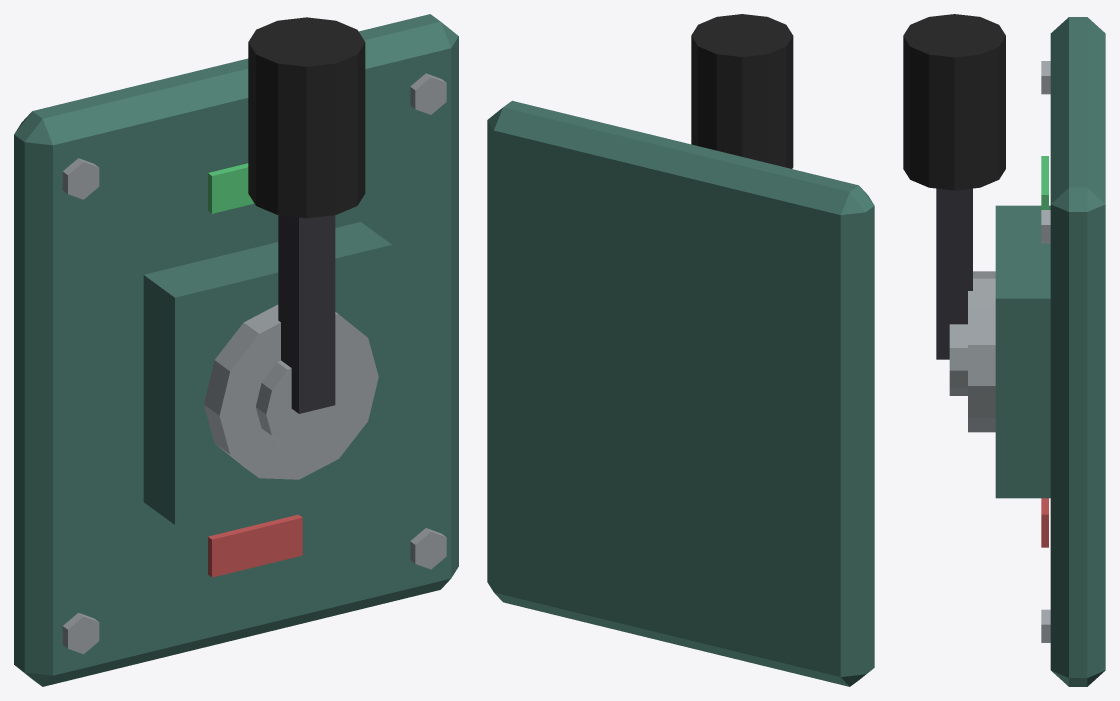
Rendered from lever.fbx.
3 views of the same model, side by side, from view 1: azimuth 30°, elevation 25°; view 2: azimuth 150°, elevation 25°; view 3: azimuth 270°, elevation 25° (orthographic). The views are drawn at different scales.
Visible parts, largest first — view 1: Lever_Switch_MountingPlate, Lever_Switch_PivotBase, Lever_Switch_Grip, Lever_Switch_PivotRing, Lever_Switch_Stem, Lever_Switch_PivotCore, Lever_Switch_Label_OFF, Lever_Switch_Label_ON, Lever_Switch_CornerBolt_1, Lever_Switch_CornerBolt_3, Lever_Switch_CornerBolt_2, Lever_Switch_CornerBolt_4; view 2: Lever_Switch_MountingPlate, Lever_Switch_Grip; view 3: Lever_Switch_MountingPlate, Lever_Switch_Grip, Lever_Switch_PivotBase, Lever_Switch_Stem, Lever_Switch_PivotRing, Lever_Switch_PivotCore, Lever_Switch_Label_ON, Lever_Switch_Label_OFF, Lever_Switch_CornerBolt_1, Lever_Switch_CornerBolt_2, Lever_Switch_CornerBolt_4.
Boxes of the visible parts, <box> form: Lever_Switch_MountingPlate: <box>14,14,458,686</box>; Lever_Switch_PivotBase: <box>143,222,391,524</box>; Lever_Switch_Grip: <box>248,17,365,218</box>; Lever_Switch_PivotRing: <box>204,304,378,479</box>; Lever_Switch_Stem: <box>278,215,335,413</box>; Lever_Switch_PivotCore: <box>256,360,352,449</box>; Lever_Switch_Label_OFF: <box>208,514,302,577</box>; Lever_Switch_Label_ON: <box>208,163,254,213</box>; Lever_Switch_CornerBolt_1: <box>62,158,99,199</box>; Lever_Switch_CornerBolt_3: <box>62,613,99,654</box>; Lever_Switch_CornerBolt_2: <box>410,73,446,114</box>; Lever_Switch_CornerBolt_4: <box>410,528,446,569</box>; Lever_Switch_MountingPlate: <box>487,100,874,686</box>; Lever_Switch_Grip: <box>691,14,793,168</box>; Lever_Switch_MountingPlate: <box>1050,17,1105,686</box>; Lever_Switch_Grip: <box>903,14,1005,190</box>; Lever_Switch_PivotBase: <box>995,205,1050,498</box>; Lever_Switch_Stem: <box>936,188,972,359</box>; Lever_Switch_PivotRing: <box>968,271,995,432</box>; Lever_Switch_PivotCore: <box>949,324,967,395</box>; Lever_Switch_Label_ON: <box>1041,156,1048,209</box>; Lever_Switch_Label_OFF: <box>1041,498,1048,547</box>; Lever_Switch_CornerBolt_1: <box>1041,61,1050,94</box>; Lever_Switch_CornerBolt_2: <box>1041,210,1050,243</box>; Lever_Switch_CornerBolt_4: <box>1041,609,1050,642</box>.
Size of the model in its own units: 12 by 17 by 5.51.
